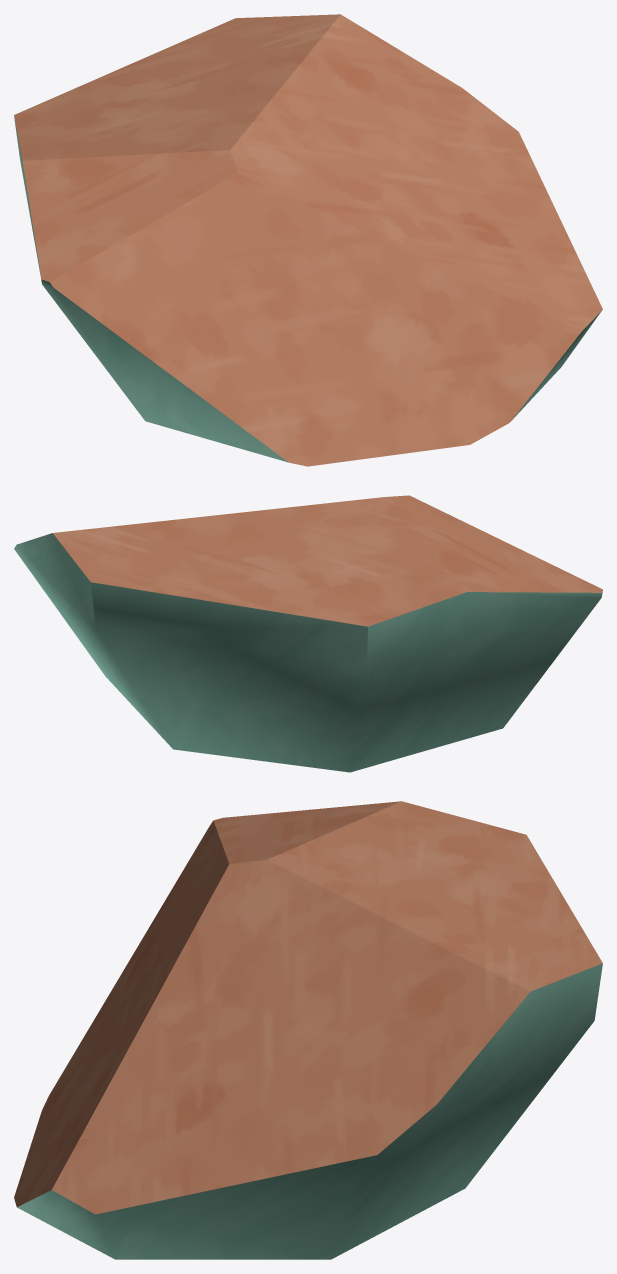
File: pot_round_s03.fbx
3 views of the same model, one above another, from view 1: azimuth 30°, elevation 25°; view 2: azimuth 150°, elevation 25°; view 3: azimuth 270°, elevation 25° (orthographic). The views are drawn at different scales.
Visible parts, largest first — view 1: pot_round_s03; view 2: pot_round_s03; view 3: pot_round_s03.
Part boxes in pixels (left/top/right/bottom): pot_round_s03: left=14, top=14, right=602, bottom=466; pot_round_s03: left=14, top=495, right=602, bottom=772; pot_round_s03: left=14, top=801, right=602, bottom=1259.
Bounding box in the file's own units: 2.12 × 0.9567 × 1.78.
